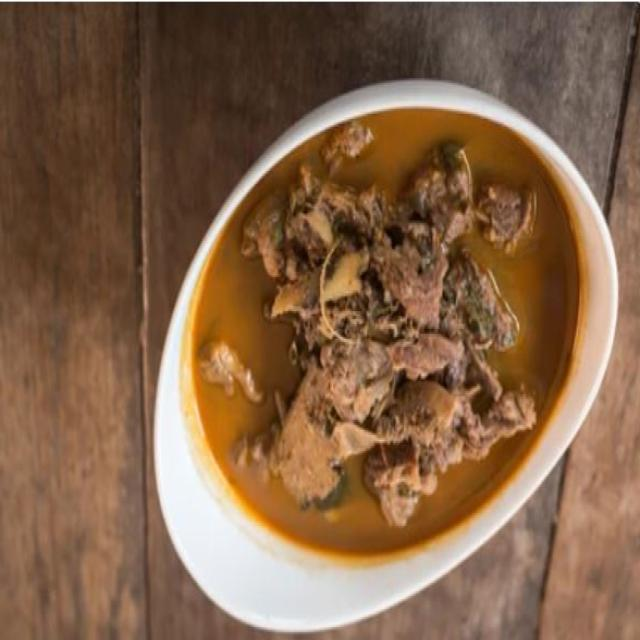kamouniya: (145, 94, 560, 570)
